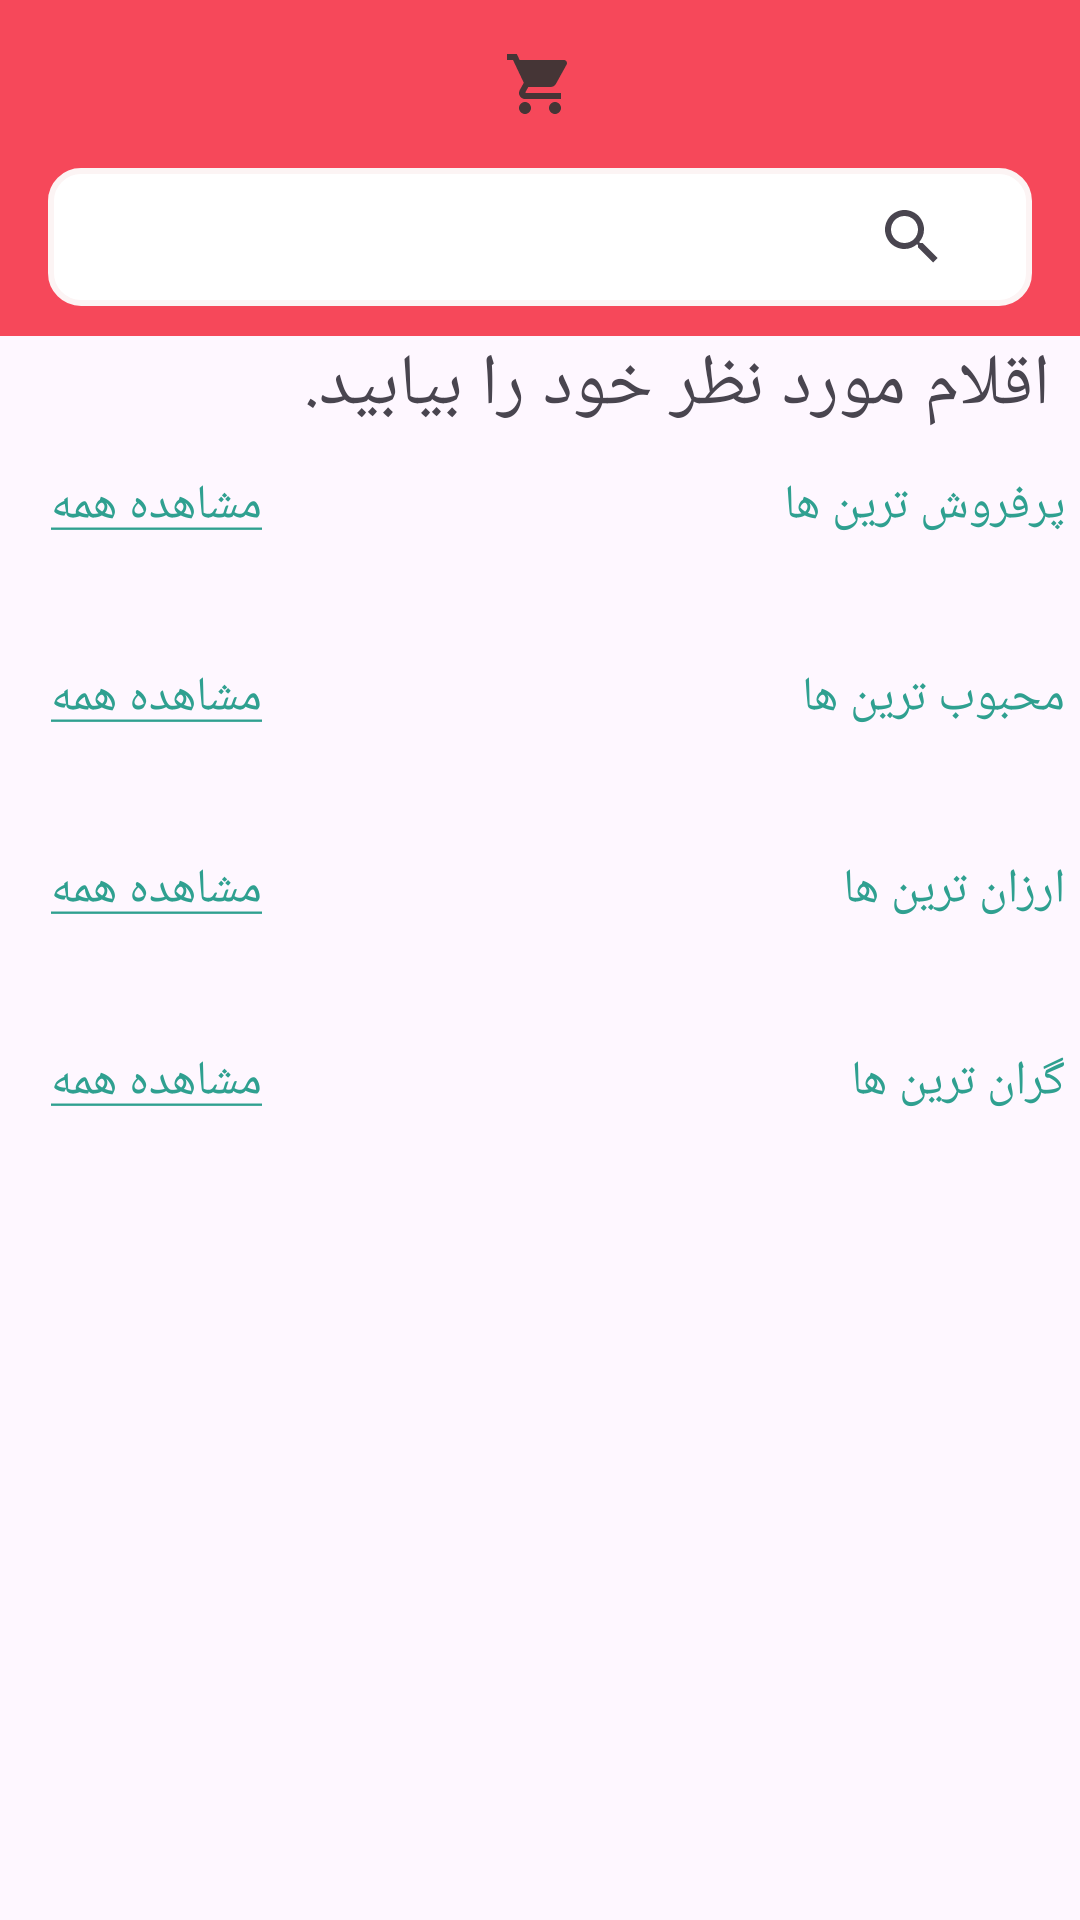

Screen size 1080*1920. Icon name, then its center in pixels as point (x, y):
cart: point (537, 84)
